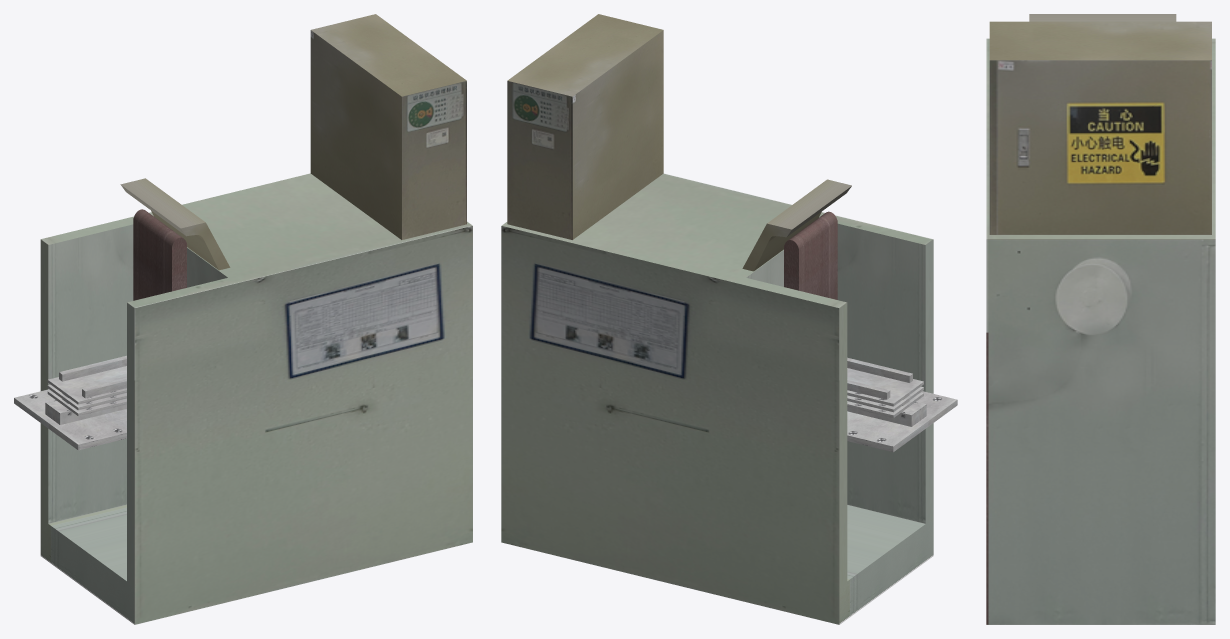
File: 组装线_B1_机器14.fbx
3 views of the same model, side by side, from view 1: azimuth 30°, elevation 25°; view 2: azimuth 150°, elevation 25°; view 3: azimuth 270°, elevation 25° (orthographic). The views are drawn at different scales.
Parts seen in each view (by area): view 1: Box001; view 2: Box001; view 3: Box001.
Boxes of the visible parts, box(x1,y1,x2,y2) form: Box001: box(14, 14, 472, 624); Box001: box(501, 14, 957, 624); Box001: box(986, 14, 1215, 624).
Size of the model in its own units: 33.1 by 38.6 by 14.28.
